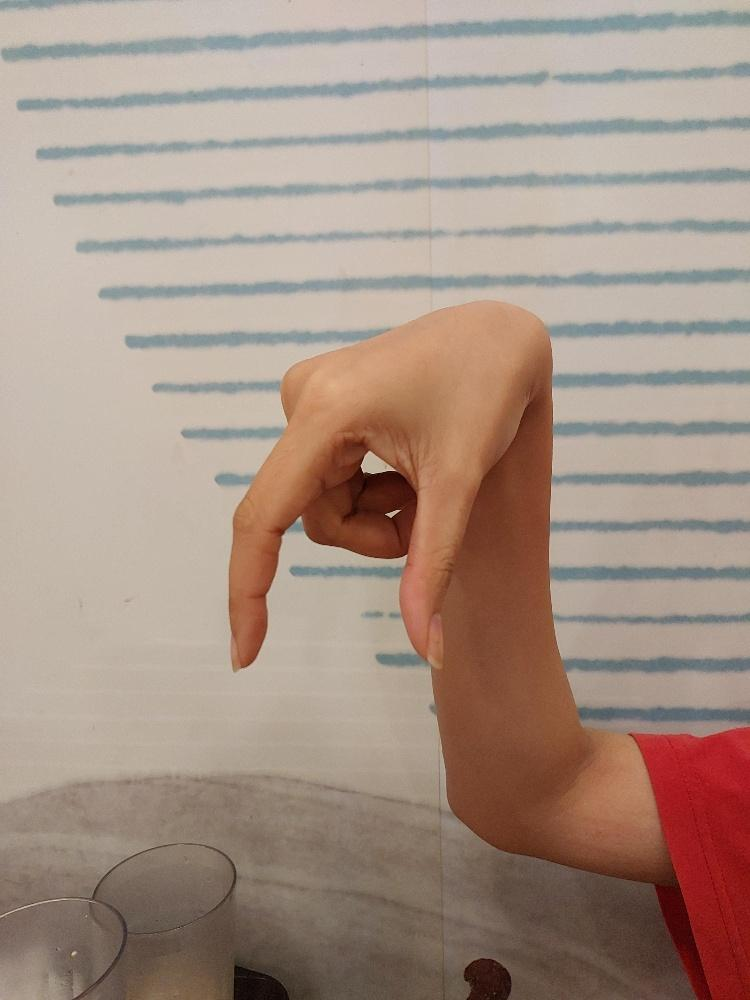q: (223, 296, 535, 671)
